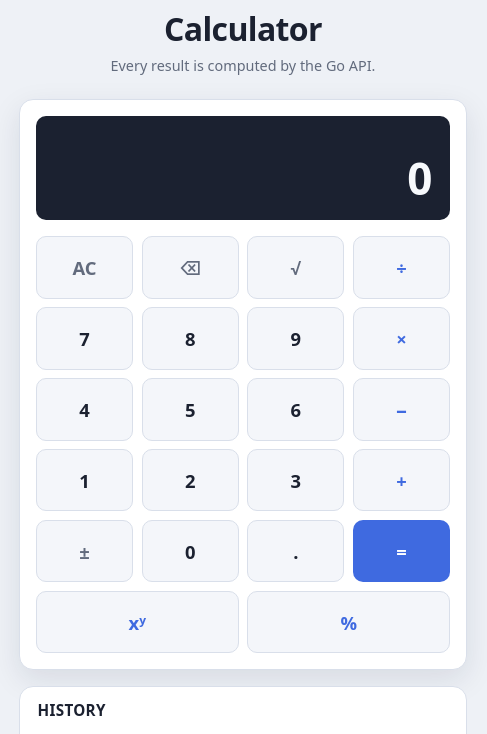
Test case: history is collapsed to the latest result › offers no clear button until there is something to clear
This screenshot has width=487, height=734.
Expected: the button "Clear" is not shown
Click the button "7": (84, 338) [36,307,133,370]
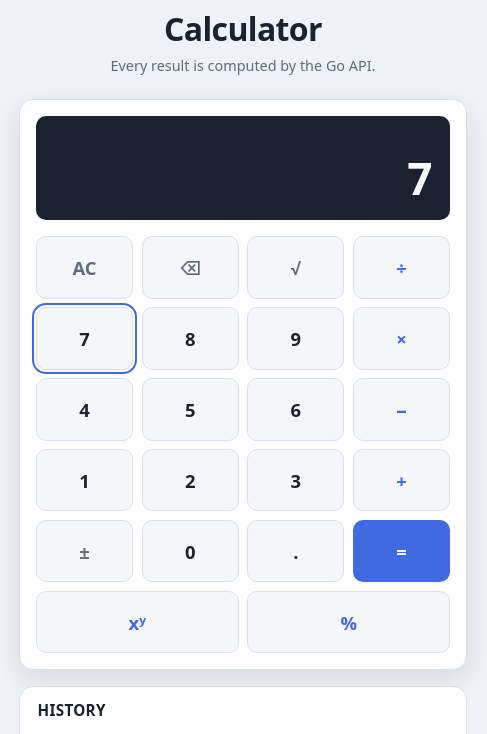
Click the button named "Multiply": (402, 338) [353,307,450,370]
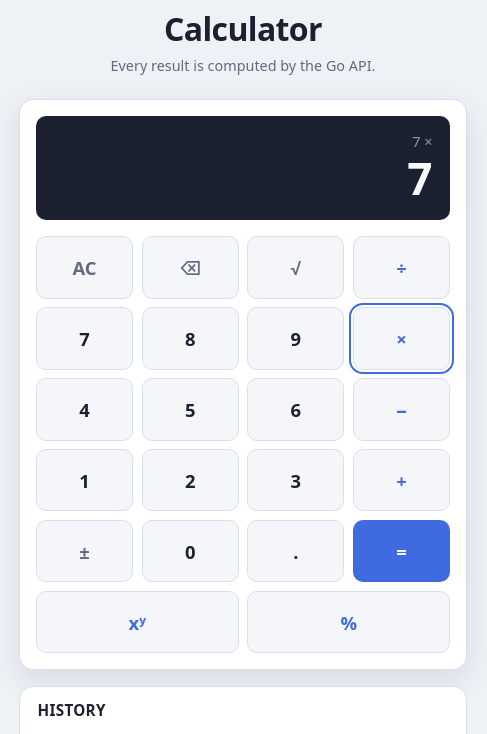
Click the button "8": (190, 338) [142,307,239,370]
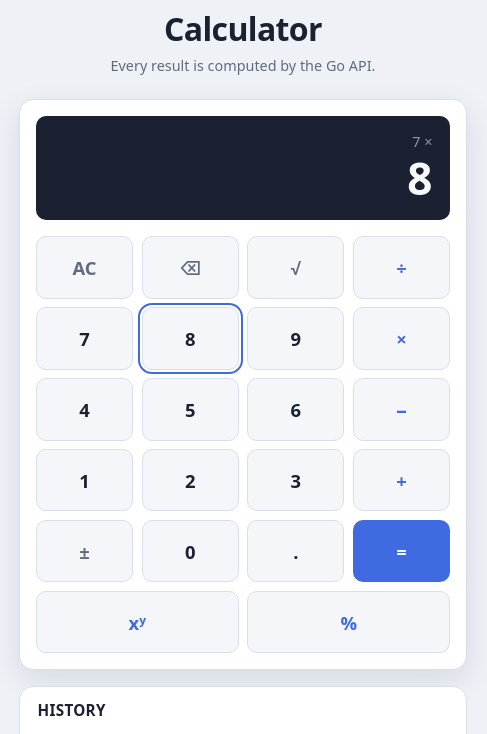
Click the button named "Equals": (402, 551) [353,520,450,582]
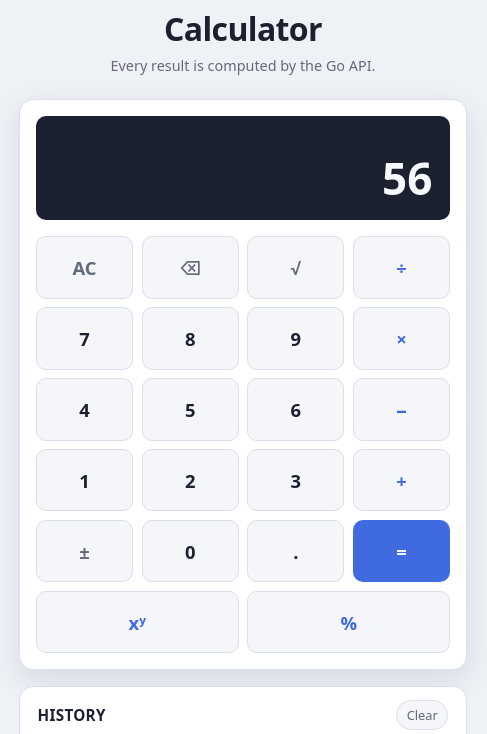
Now the button "Clear" is shown, box [396,700,448,730]
